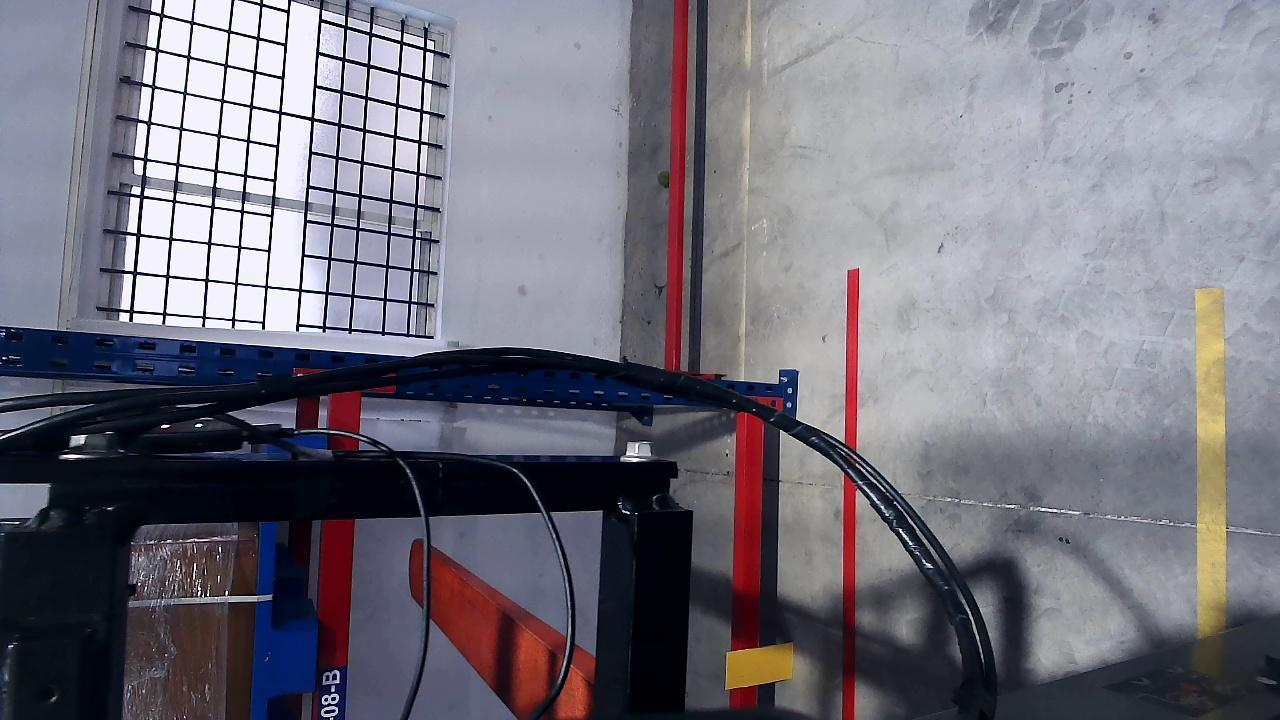red_line: (839, 267, 861, 720)
yellow_line: (1195, 288, 1227, 647)
